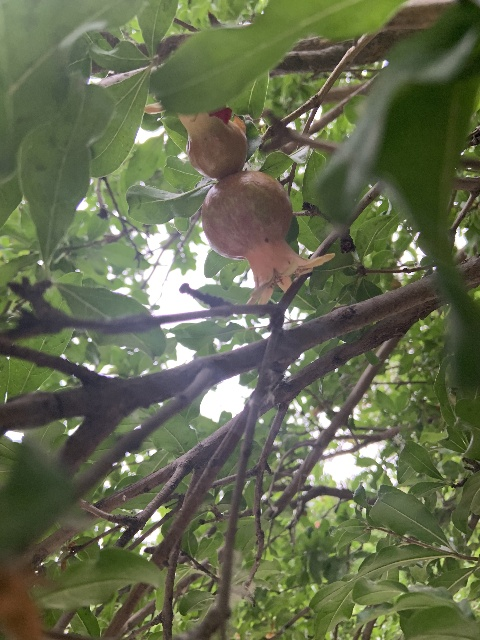early-fruit: (200, 170, 335, 307), (146, 79, 247, 179)
